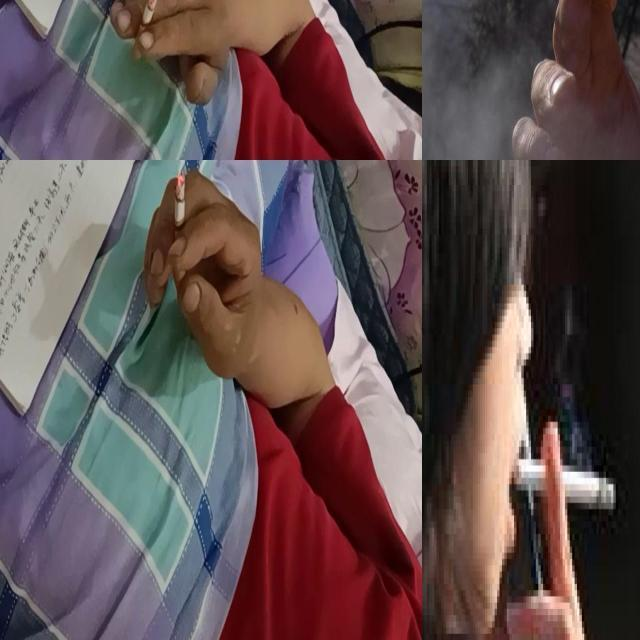smoking: (507, 434, 621, 528), (131, 0, 166, 60), (513, 0, 618, 13), (174, 170, 186, 261)
